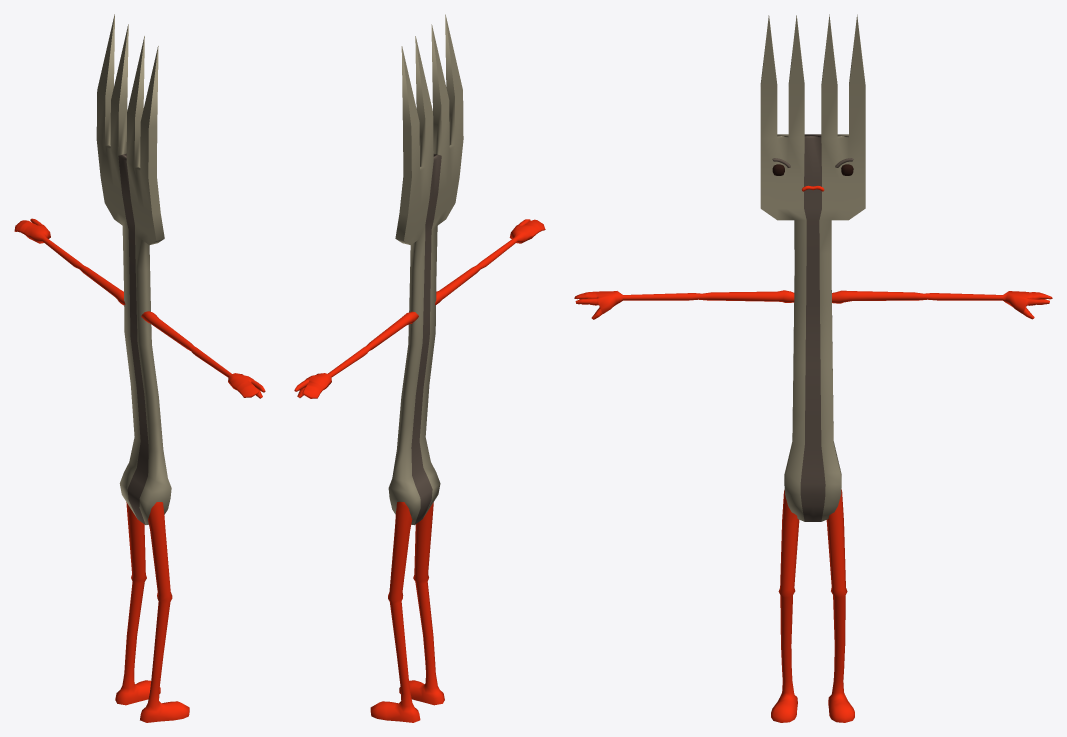
Rendered from avatars_tposing_fork_character.glb.
3 renders of one model, left to right at view 1: azimuth 30°, elevation 25°; view 2: azimuth 150°, elevation 25°; view 3: azimuth 270°, elevation 25°, orthographic.
Parts seen in each view (by area): view 1: mesh_char_116; view 2: mesh_char_116; view 3: mesh_char_116.
Part boxes in pixels (x1,y1,x2,y2): mesh_char_116: (14,14,265,722); mesh_char_116: (294,14,545,722); mesh_char_116: (574,14,1052,722).
Bounding box in the file's own units: 0.5186 × 6.58 × 4.14.
Materials: 1 (1 with a texture image).
